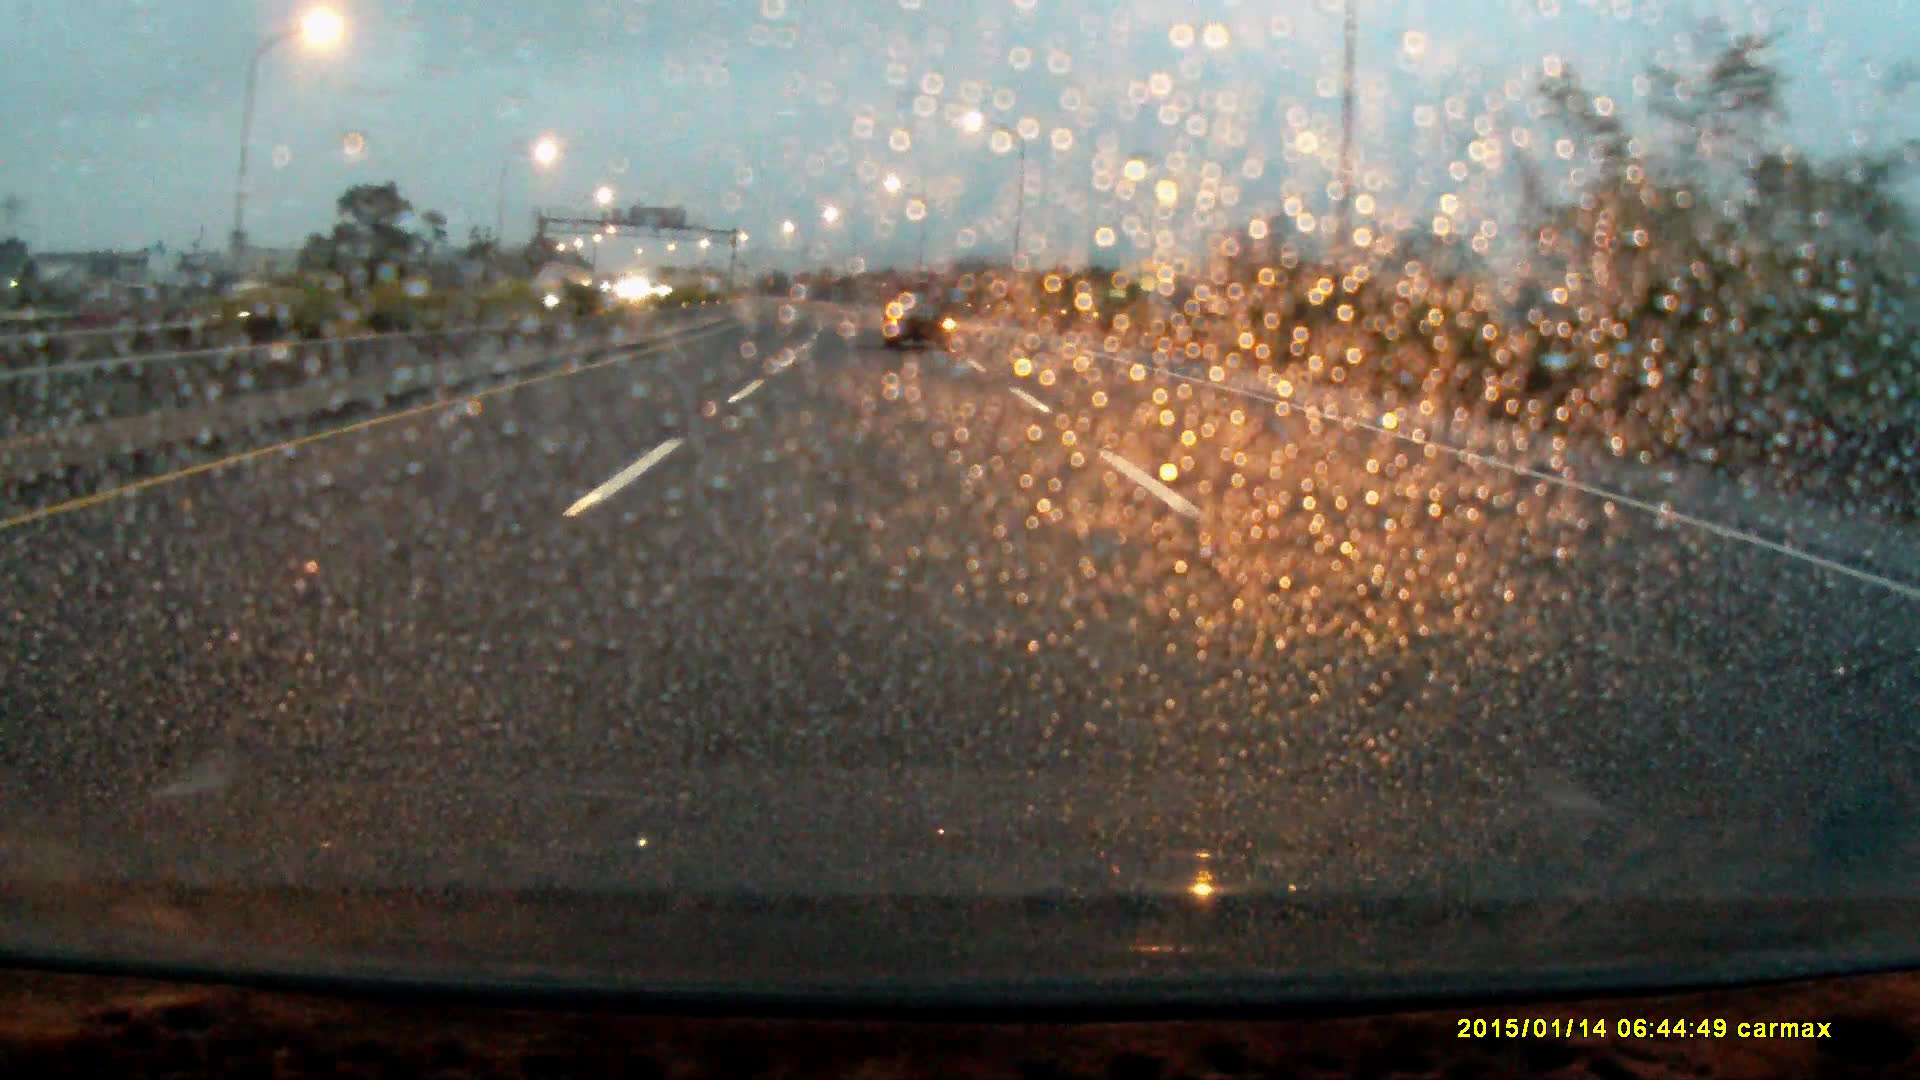vehicle: (884, 269, 955, 353)
